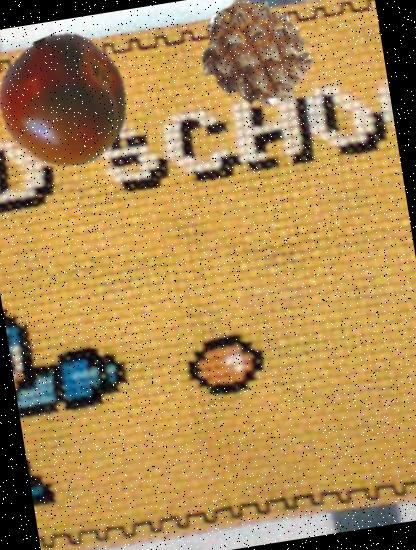Pineapple: (192, 0, 324, 120)
Tomato: (0, 26, 139, 178)
